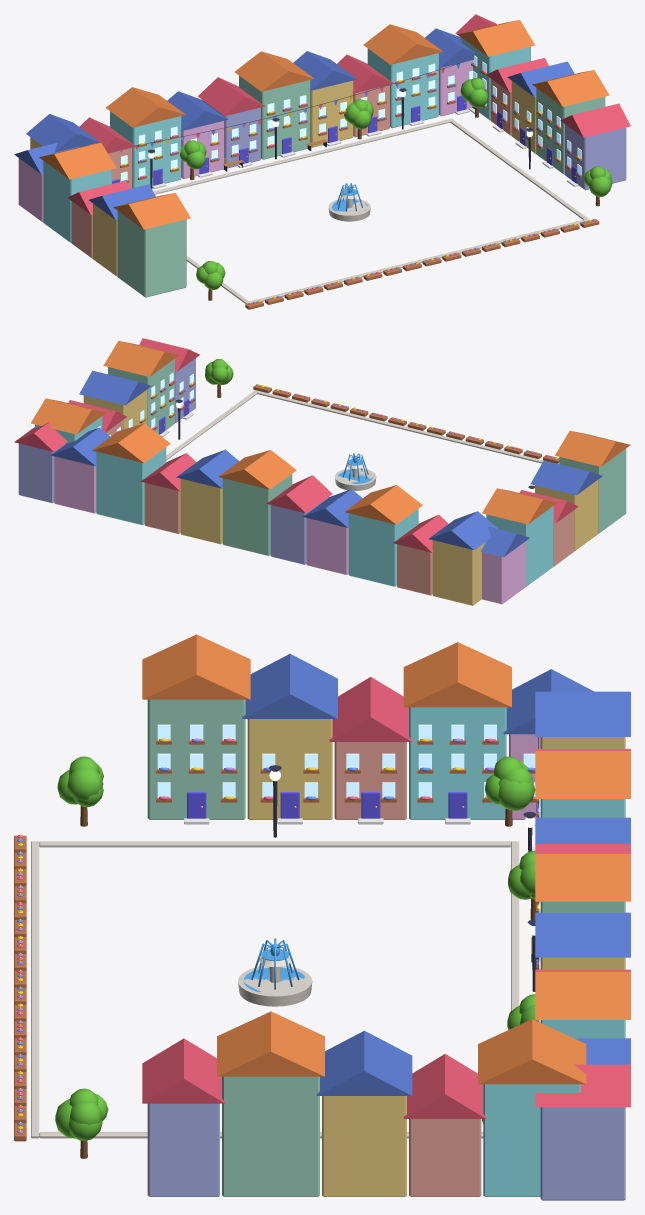
Rendered from place_square.glb.
The picture shows the model from 3 angles, top to bottom: view 1: azimuth 30°, elevation 25°; view 2: azimuth 150°, elevation 25°; view 3: azimuth 270°, elevation 25°; orthographic projection. The views are drawn at different scales.
Visible parts, largest first — view 1: scenery, house_11, house_5, house_8, house_2, house_16, house_17, house_14, house_6, house_4, house_20, house_3 (+10 smaller); view 2: house_5, house_8, house_2, scenery, house_0, house_11, house_14, house_17, house_6, house_4, house_3, house_9 (+11 smaller); view 3: scenery, house_11, house_17, house_14, house_18, house_12, house_20, house_16, house_10, house_13, house_19, house_2 (+9 smaller).
Boxes of the visible parts, <box> form: scenery: <box>120,63,612,309</box>; house_11: <box>113,193,190,297</box>; house_5: <box>234,51,314,159</box>; house_8: <box>363,24,443,128</box>; house_2: <box>105,87,185,188</box>; house_16: <box>560,103,630,190</box>; house_17: <box>532,70,609,174</box>; house_14: <box>39,143,116,242</box>; house_6: <box>293,51,357,147</box>; house_4: <box>198,77,265,168</box>; house_20: <box>458,20,535,120</box>; house_3: <box>167,91,228,178</box>; house_5: <box>218,450,296,555</box>; house_8: <box>92,423,170,525</box>; house_2: <box>344,485,422,586</box>; scenery: <box>166,359,559,492</box>; house_0: <box>428,511,498,605</box>; house_11: <box>555,431,630,533</box>; house_14: <box>482,488,557,586</box>; house_17: <box>103,341,178,437</box>; house_6: <box>176,449,239,544</box>; house_4: <box>266,475,332,564</box>; house_3: <box>302,489,362,574</box>; house_9: <box>50,427,110,513</box>; scenery: <box>14,737,538,1158</box>; house_11: <box>142,634,250,824</box>; house_17: <box>217,1011,324,1196</box>; house_14: <box>403,642,511,824</box>; house_18: <box>316,1030,412,1196</box>; house_12: <box>242,654,337,824</box>; house_20: <box>478,1019,586,1196</box>; house_16: <box>142,1038,225,1196</box>; house_10: <box>535,1064,630,1200</box>; house_13: <box>329,677,412,824</box>; house_19: <box>403,1054,486,1196</box>; house_2: <box>535,751,630,817</box>.
Bounding box in the file's own units: 46.9 × 7.7 × 29.05.
